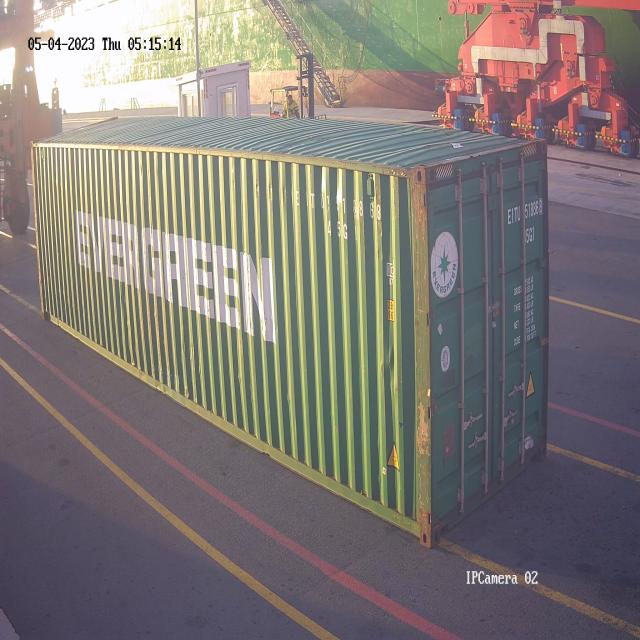dent: (378, 342, 404, 404)
